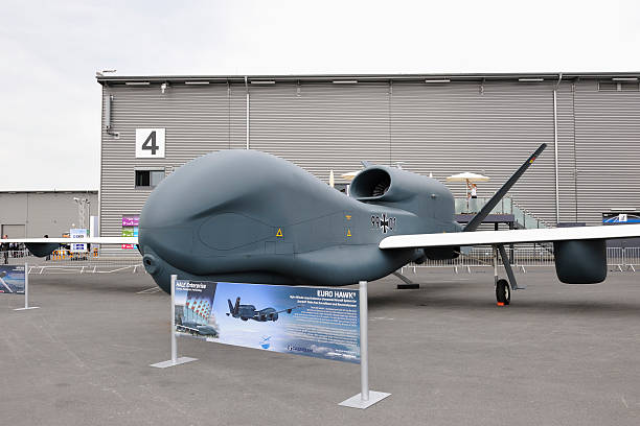military drone: (0, 142, 640, 305)
